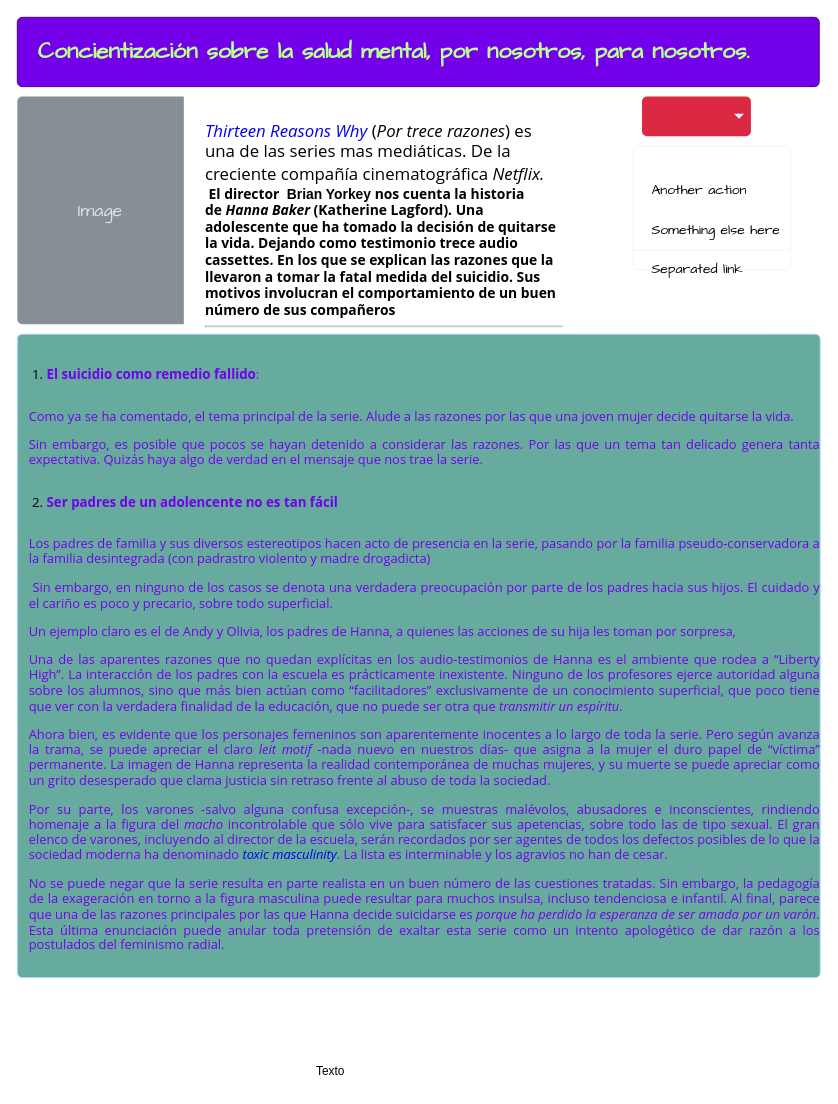
The diagram is 838 pixels wide and 1104 high, and some of its shapes have lost their labels. Here are the shapes that lost their labels. From the top down, the centre of each, then its label:
At [696,116]: "Danger".
At [711,207]: "ayuda".
